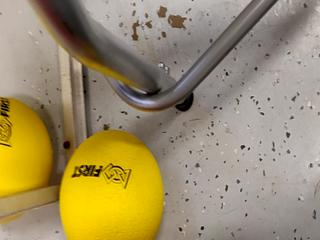power_cell: (58, 129, 166, 240), (1, 99, 56, 217)
